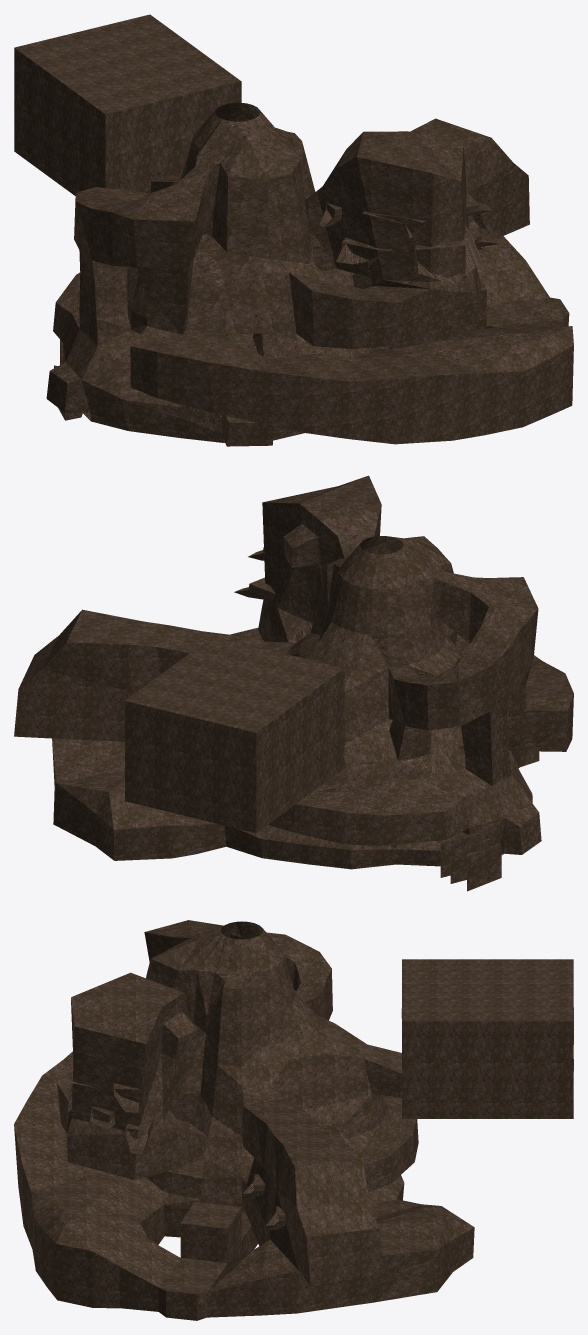
The model's file is level22.obj.
The picture shows the model from 3 angles, top to bottom: view 1: azimuth 30°, elevation 25°; view 2: azimuth 150°, elevation 25°; view 3: azimuth 270°, elevation 25°; orthographic projection. The views are drawn at different scales.
Parts seen in each view (by area): view 1: polySurface362; view 2: polySurface362; view 3: polySurface362.
Boxes of the visible parts, box(x1,y1,x2,y2) form: polySurface362: box(14, 14, 573, 446); polySurface362: box(14, 475, 573, 891); polySurface362: box(14, 920, 573, 1320).
Bounding box in the file's own units: 269 × 150 × 280.
10 materials, 7 textured.
